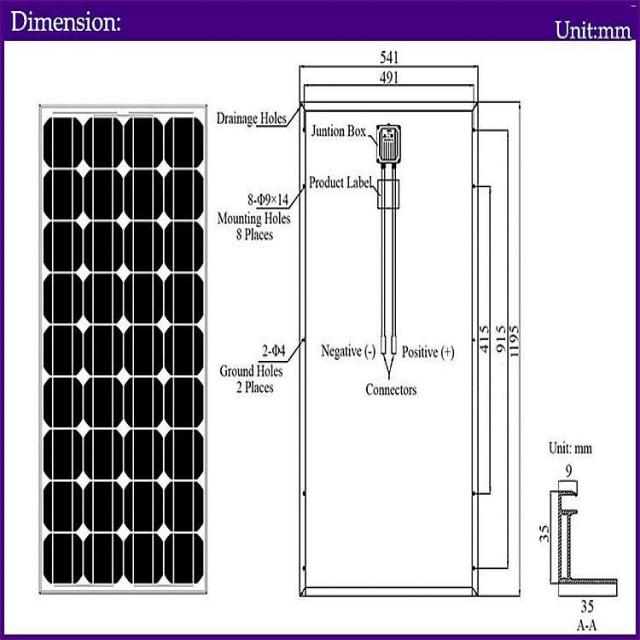clean-solar-panel: (42, 112, 204, 586)
